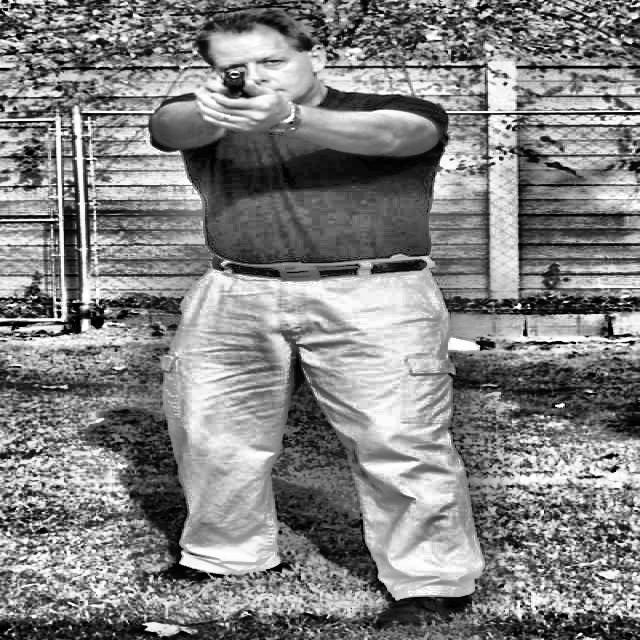pistol: (204, 45, 264, 128)
